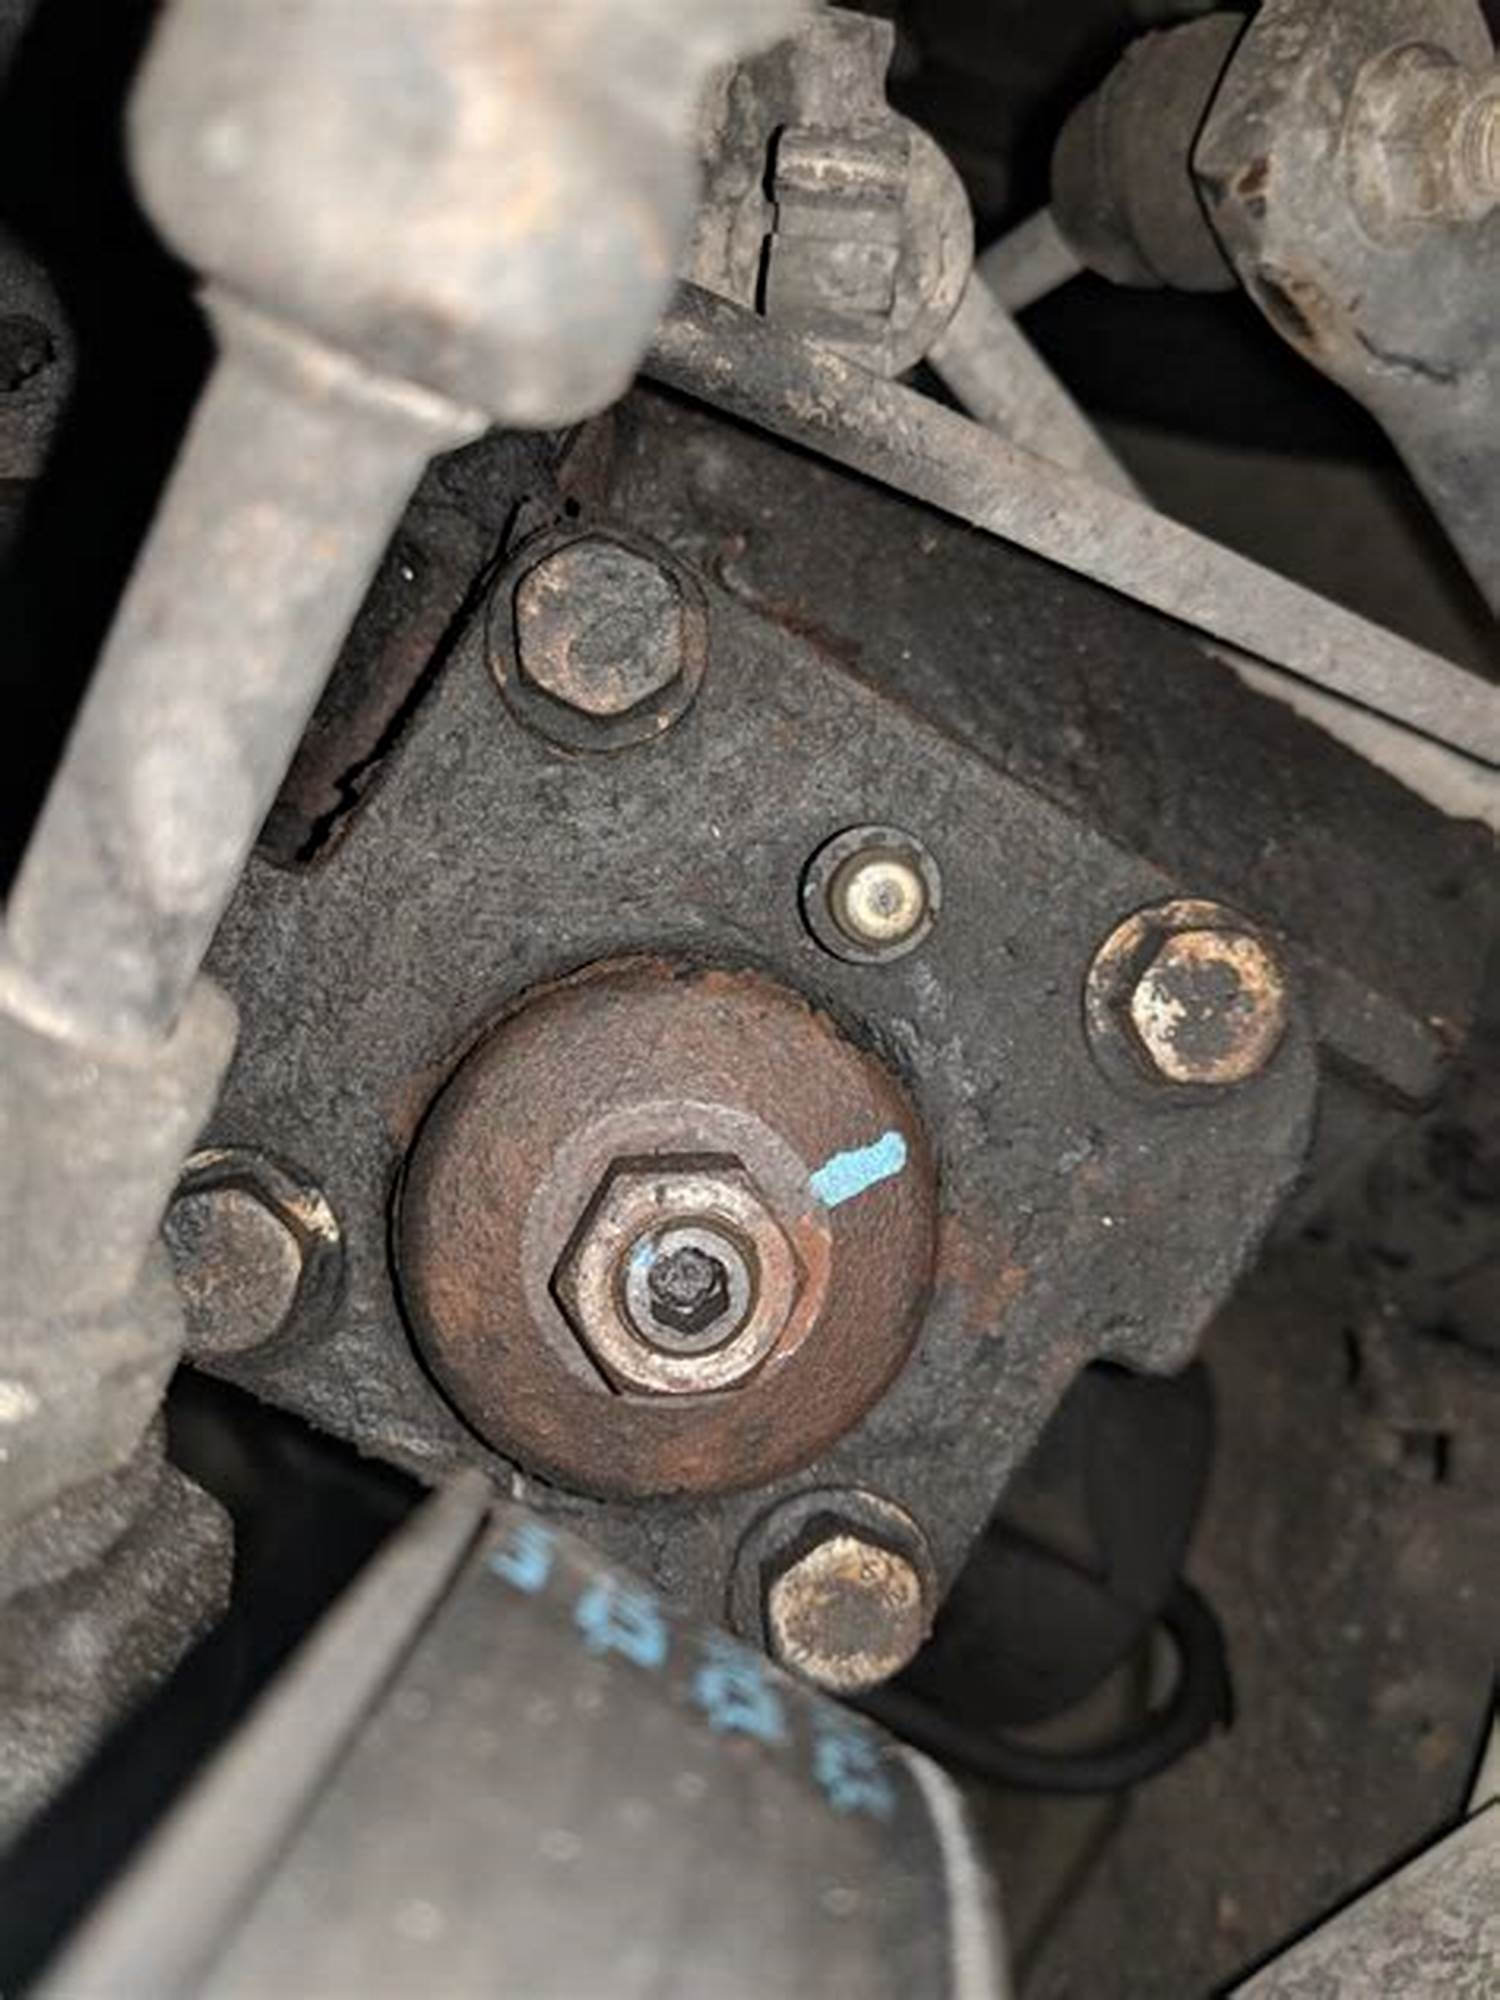bolt_a: (120, 1175, 326, 1372), (748, 1506, 931, 1706), (512, 521, 685, 729), (1114, 921, 1298, 1096)
bolt_b: (536, 1150, 815, 1408), (1369, 44, 1494, 233)
